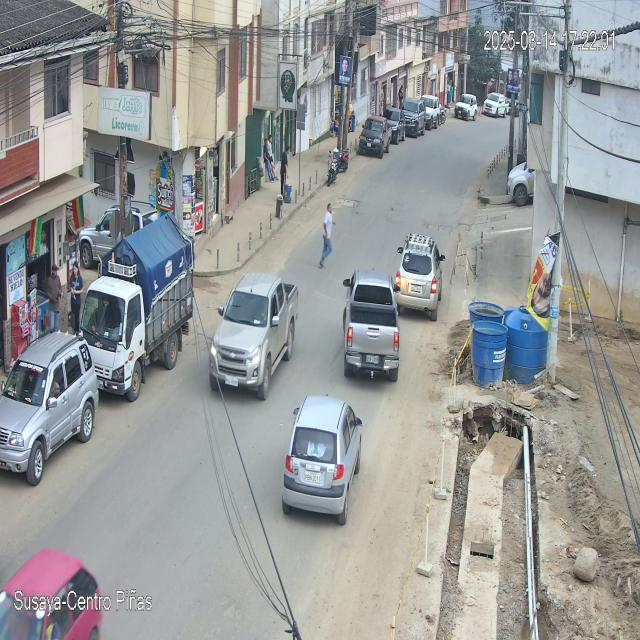CMT: (211, 276, 298, 401), (342, 273, 400, 384)
SED: (281, 396, 363, 526)
SUV: (394, 233, 446, 321)
